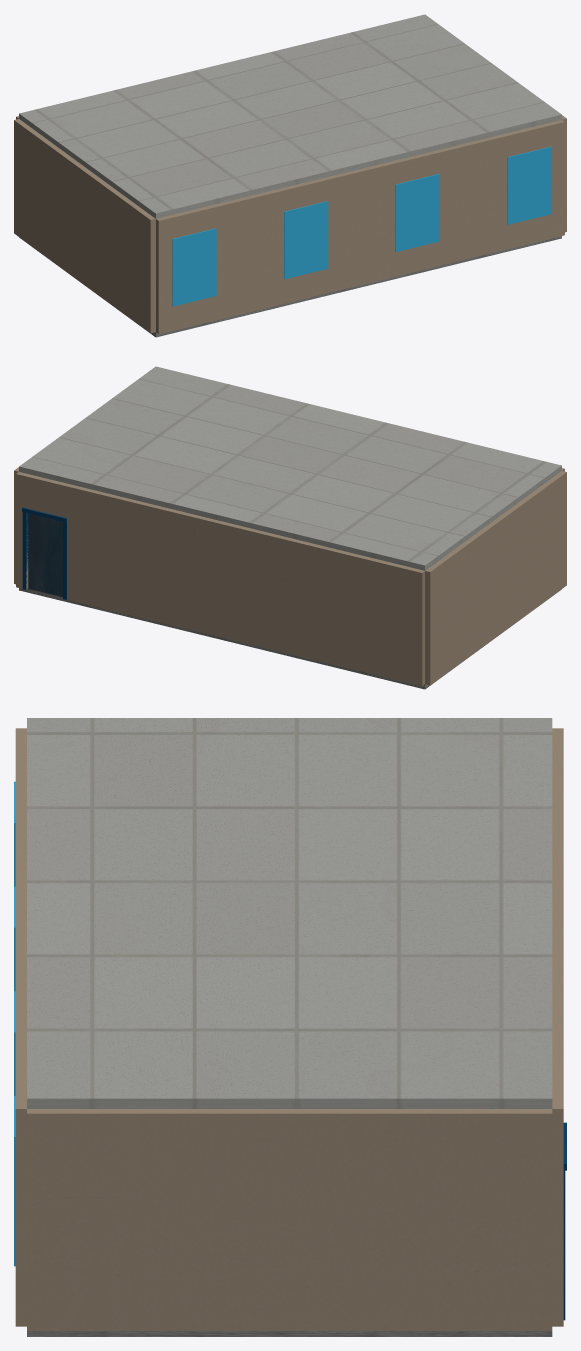
File: AulaTerminada.fbx
3 views of the same model, one above another, from view 1: azimuth 30°, elevation 25°; view 2: azimuth 150°, elevation 25°; view 3: azimuth 270°, elevation 25° (orthographic). The views are drawn at different scales.
Visible parts, largest first — view 1: Techo, Paredes, Ventanas, Piso; view 2: Paredes, Techo, Puerta, Piso; view 3: Techo, Paredes, Piso, Ventanas.
Part boxes in pixels (x1=…): Techo: x1=19, y1=14, x2=561, y2=218; Paredes: x1=14, y1=115, x2=566, y2=334; Ventanas: x1=172, y1=146, x2=551, y2=306; Piso: x1=19, y1=236, x2=561, y2=337; Paredes: x1=14, y1=467, x2=566, y2=686; Techo: x1=19, y1=366, x2=561, y2=570; Puerta: x1=22, y1=507, x2=66, y2=599; Piso: x1=19, y1=588, x2=561, y2=689; Techo: x1=27, y1=718, x2=552, y2=1108; Paredes: x1=15, y1=728, x2=563, y2=1331; Piso: x1=27, y1=1331, x2=552, y2=1336; Ventanas: x1=14, y1=781, x2=15, y2=1266.
Bounding box in the file's own units: 12.3 × 3.5 × 7.37.
